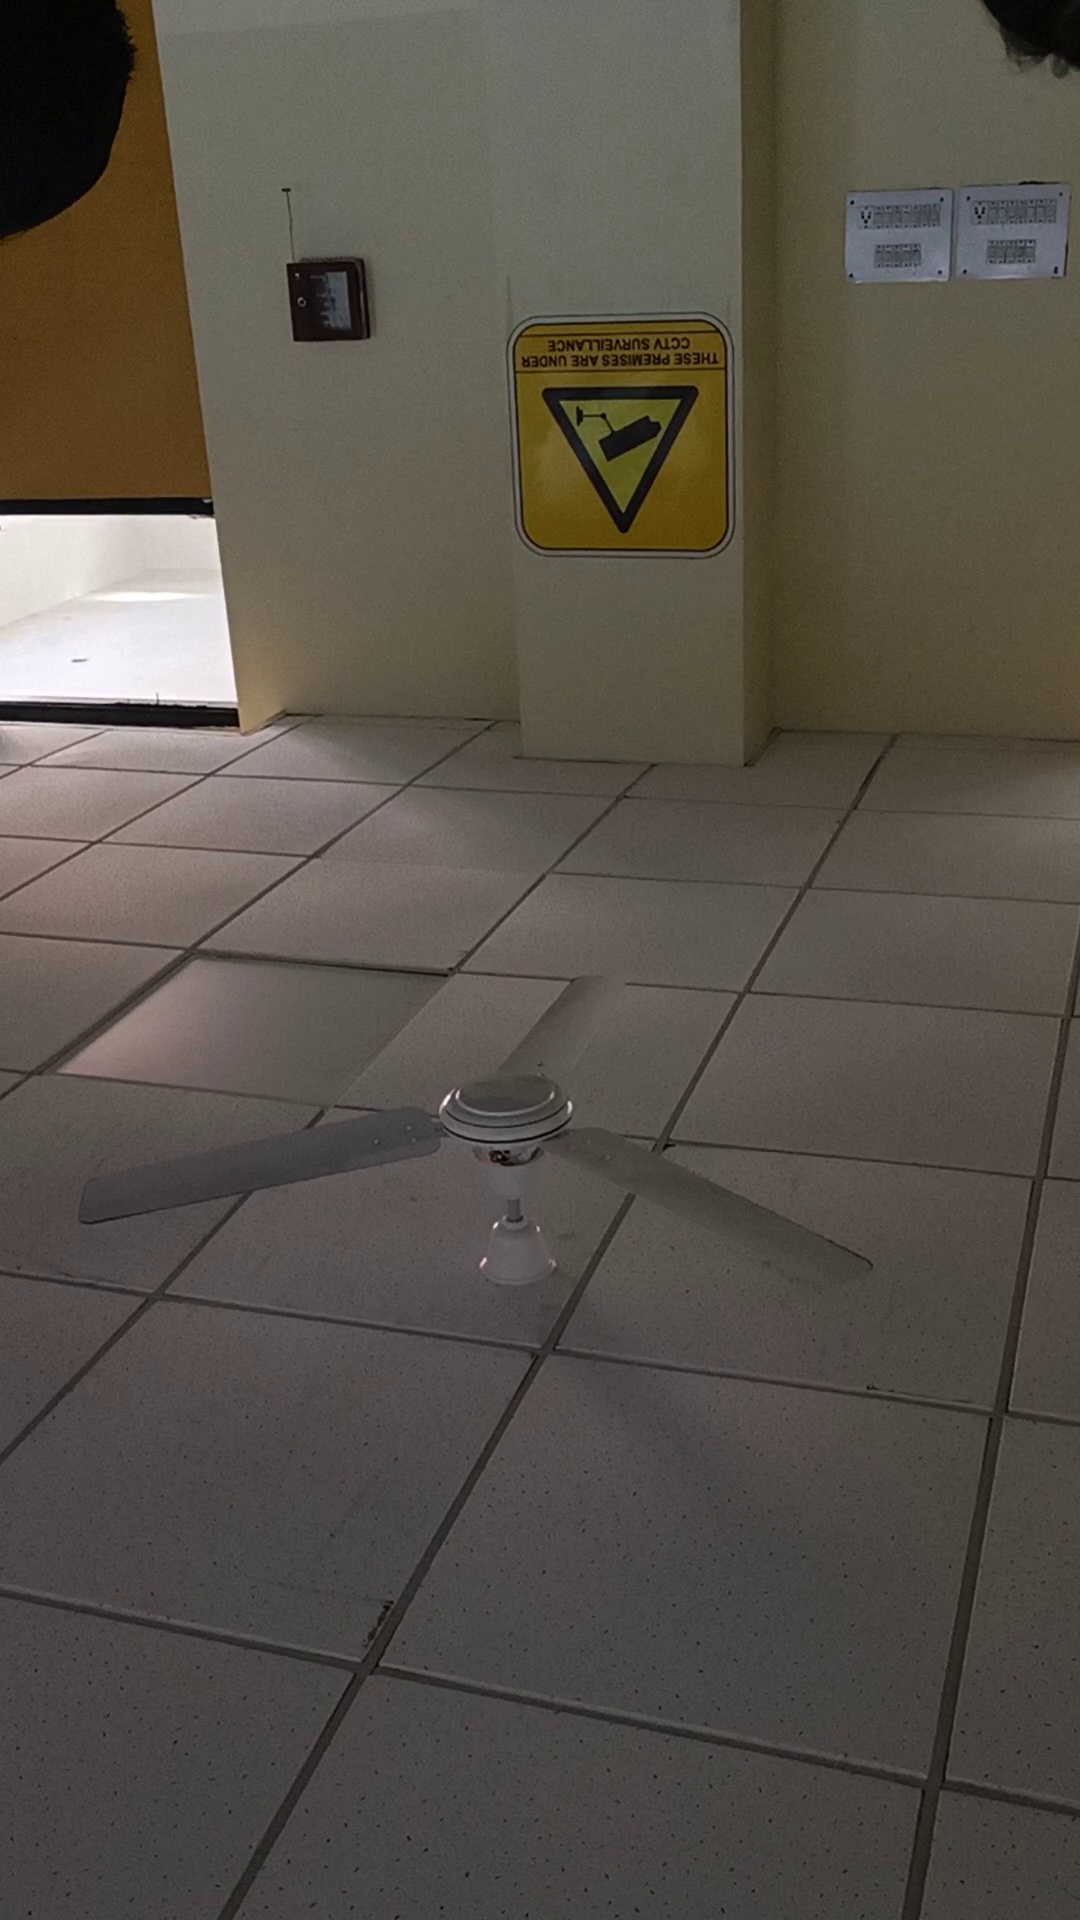fan: (75, 956, 882, 1404)
